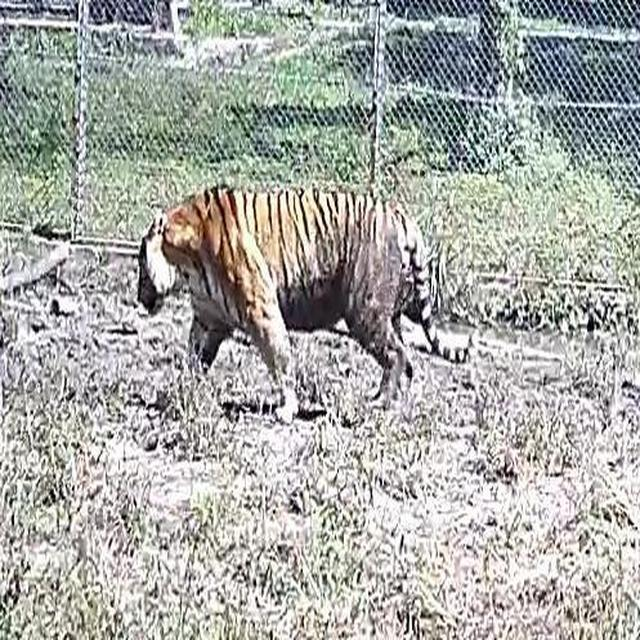tiger: (129, 159, 477, 426)
